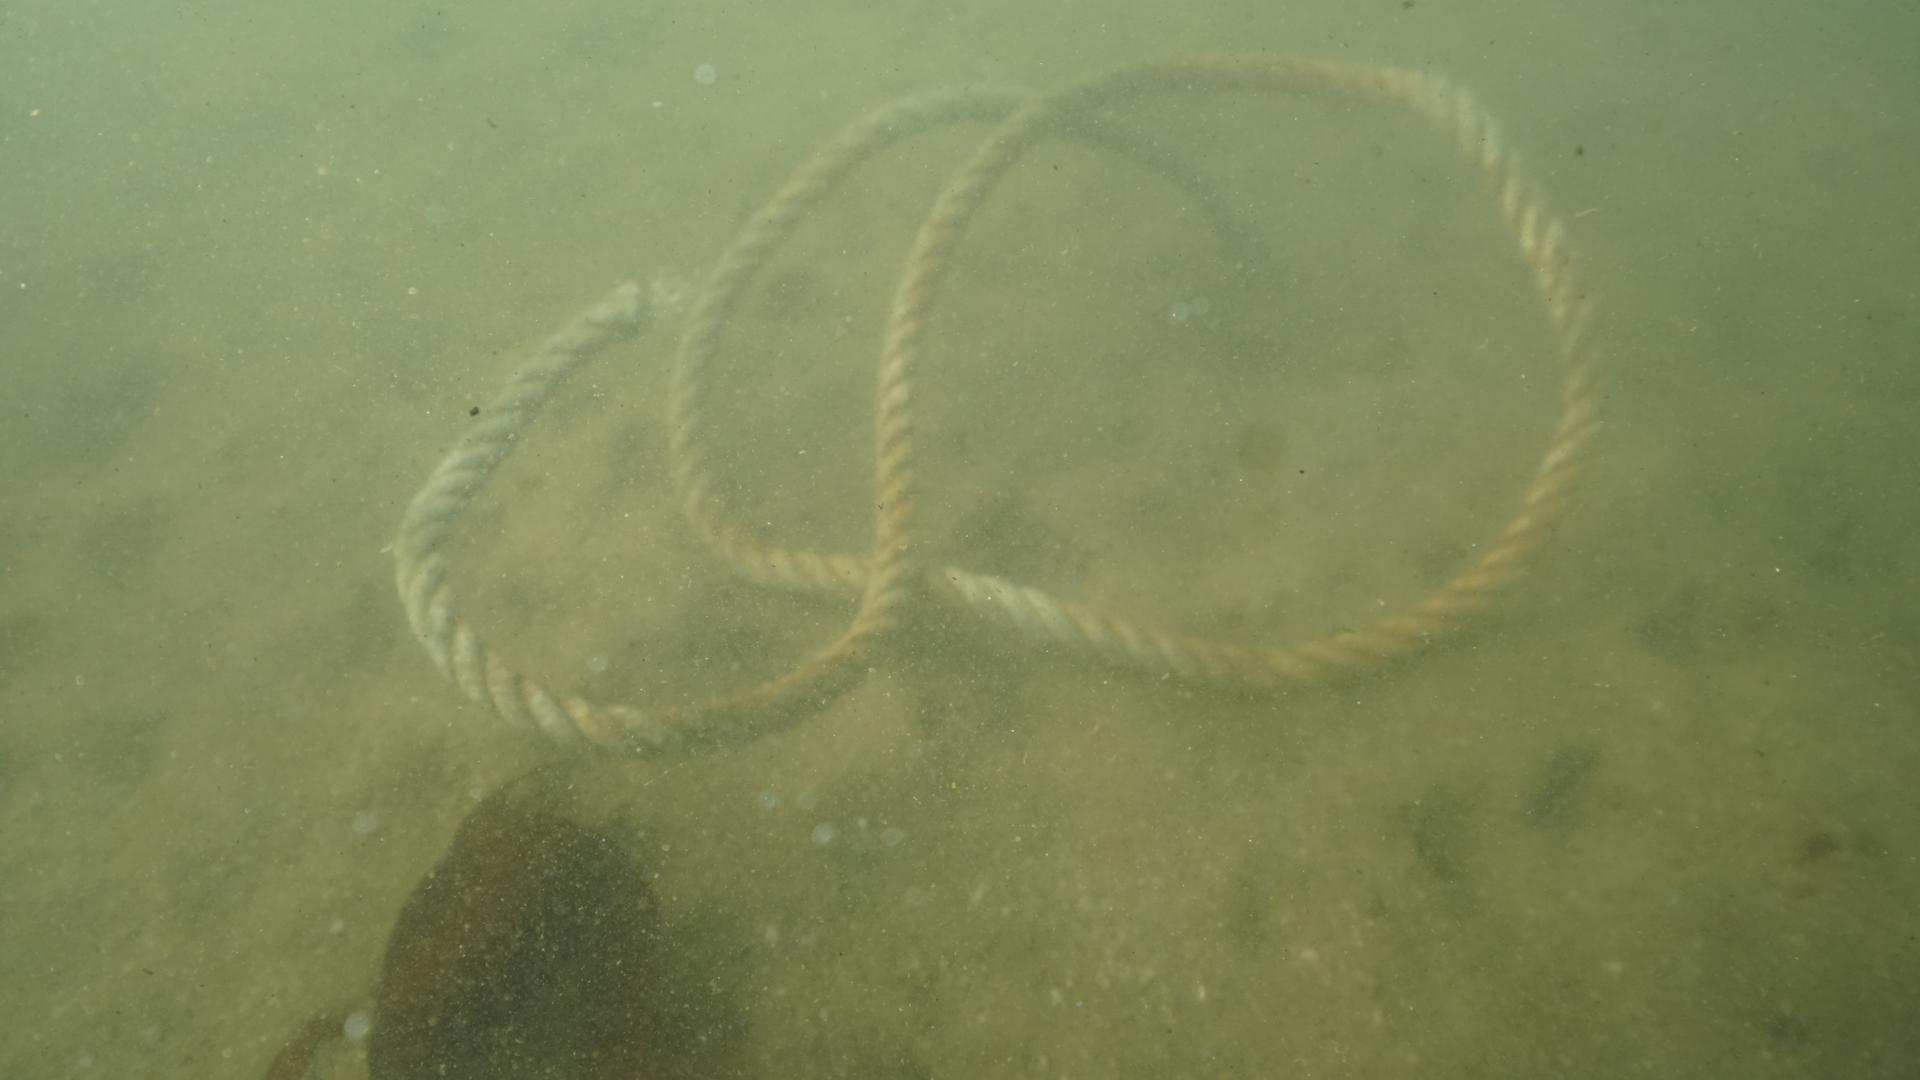bundle of ropes: (376, 44, 1618, 753)
